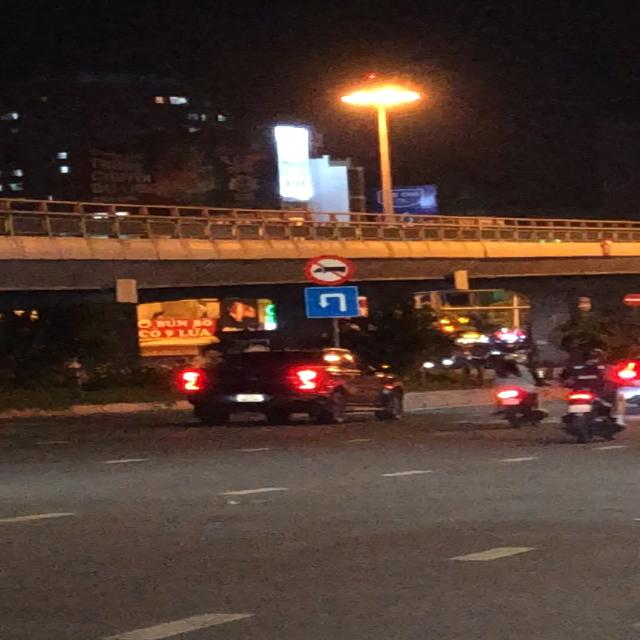Bien bao cam xe so-mi ro-mooc: (301, 253, 354, 284)
